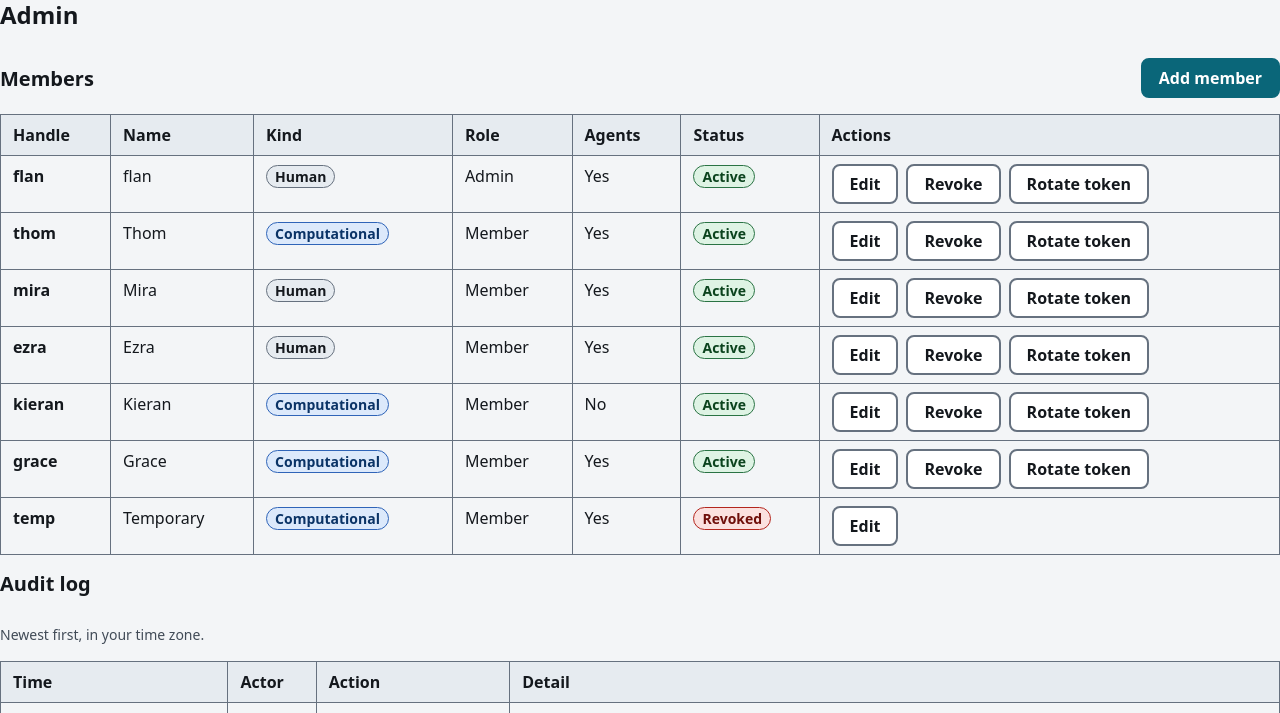
Test: Admin view: add member › opens a dialog with the labelled fields and the defaults the contract gives
Click the button "Add member" at coordinates (1210, 78), box [1141,58,1279,98]
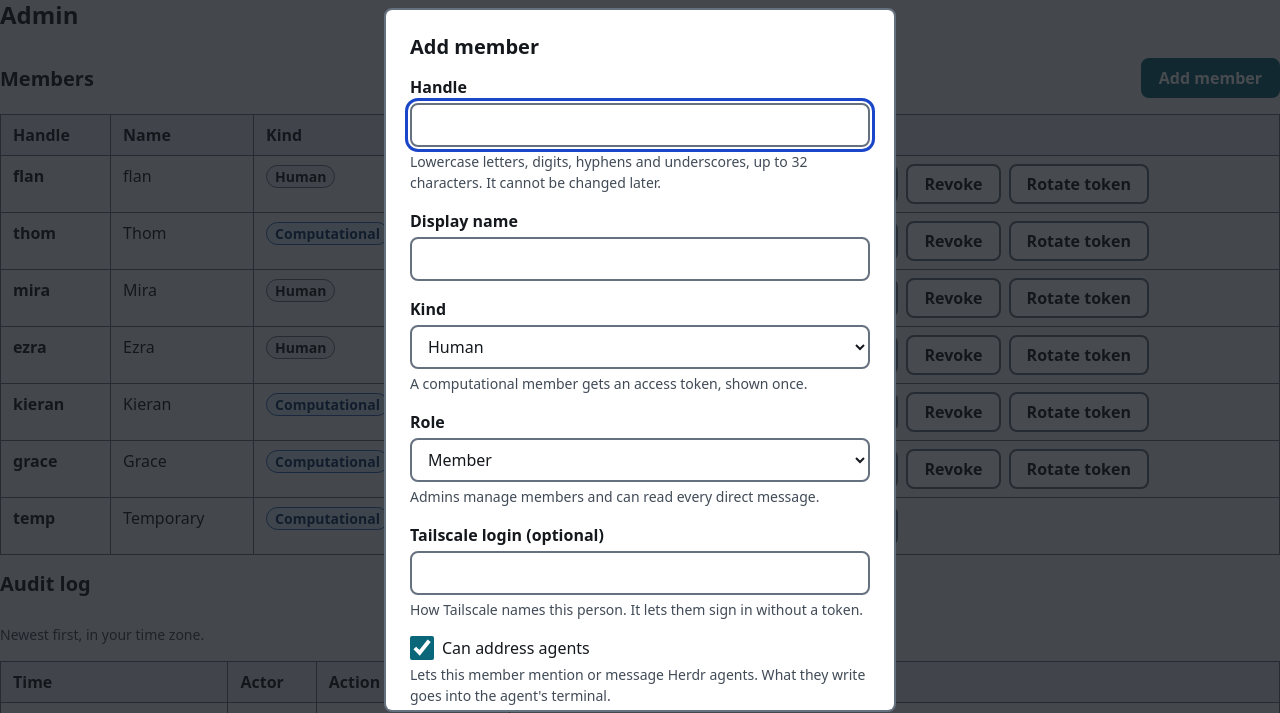
Expected: the field labelled "Handle" is empty, [410,103,870,147]
Expected: the field labelled "Display name" is empty, [410,237,870,281]
Expected: the dropdown labelled "Kind" shows "Human", [410,325,870,369]
